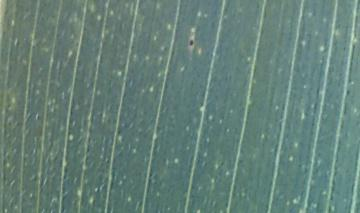tarspot: (185, 34, 199, 54)
